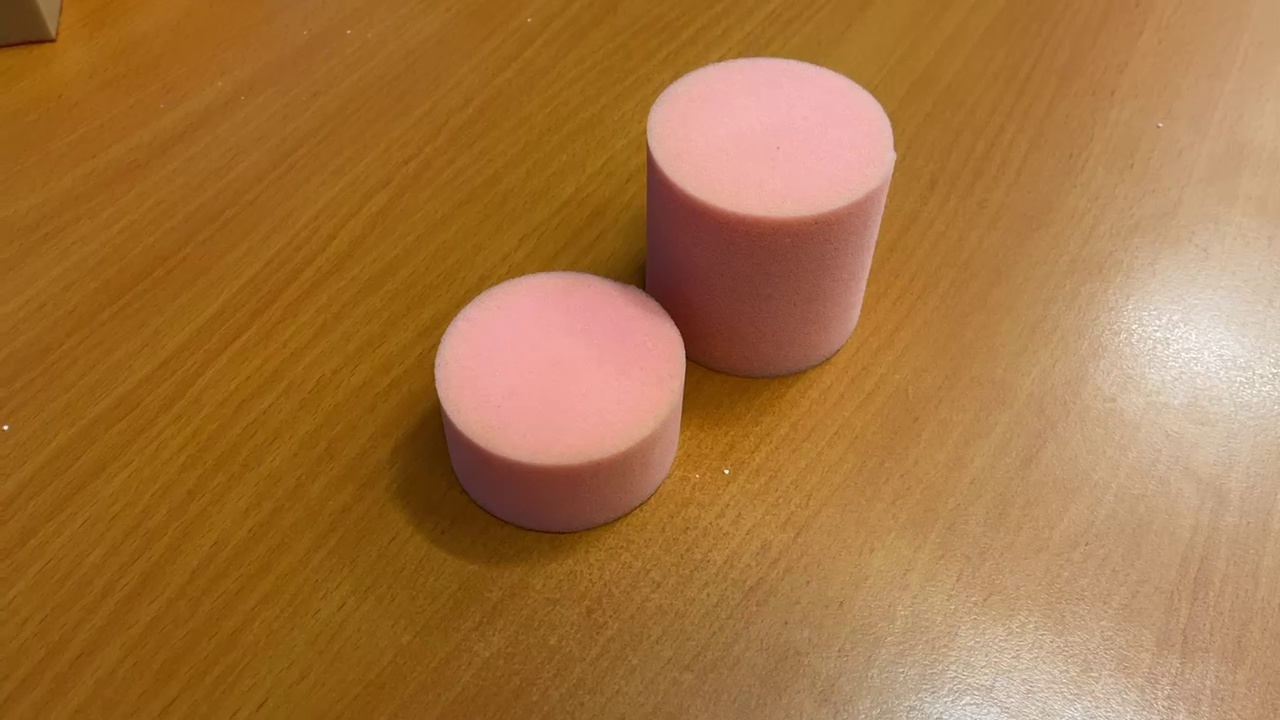Clyinder_short: (425, 266, 693, 538)
Cylinder: (637, 51, 896, 382)
